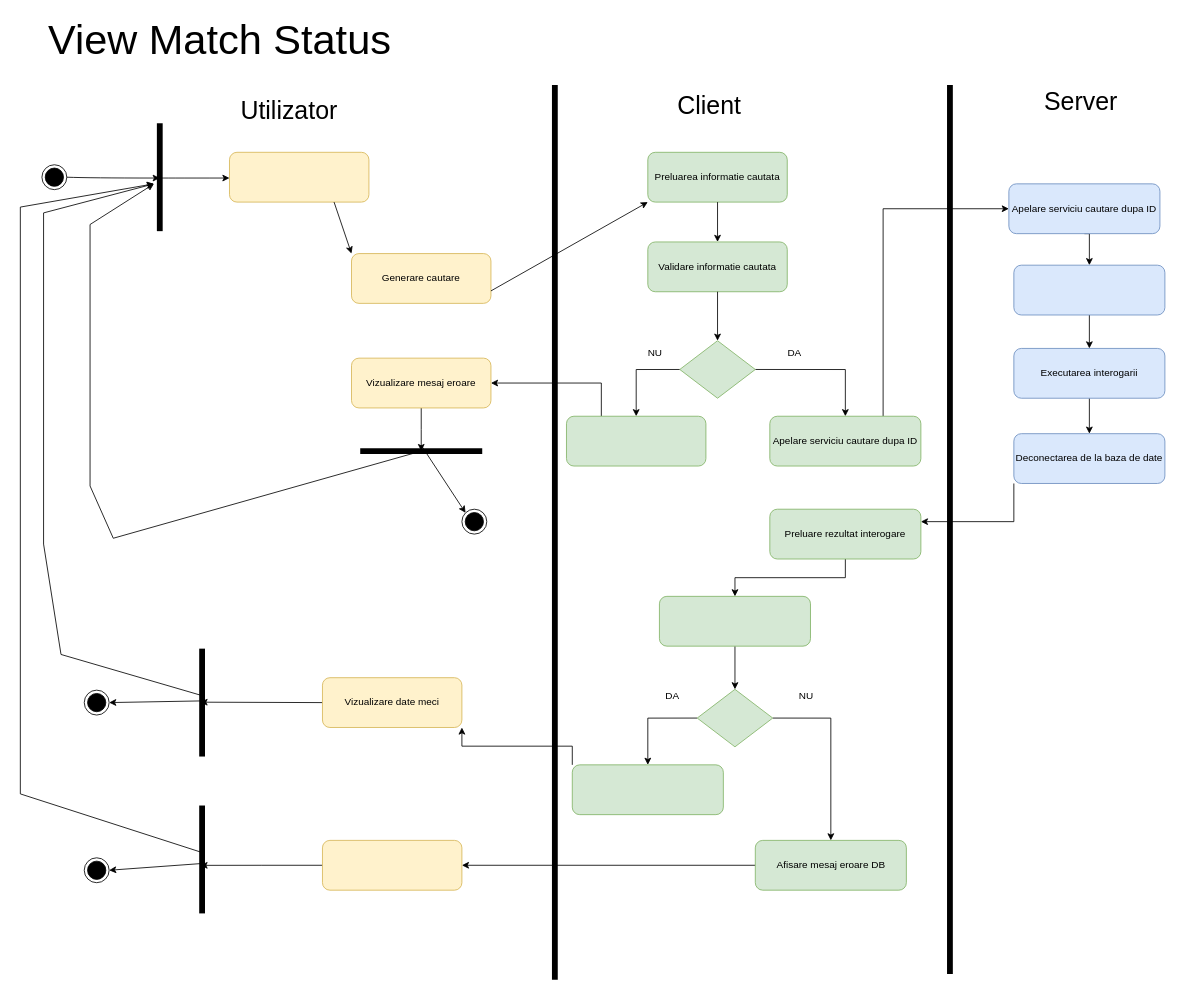
Some shapes in this 1179 by 998 pixel diagram are drawn without their labels. The box of each missing label's shape, as (x1, y1, x2, y2) in pixels:
Afisare mesaj eroare: (566, 415, 706, 466)
Analiza rezultat: (659, 596, 810, 646)
Conectare la baza de date: (1013, 264, 1165, 315)
Introducere informatie cautata: (229, 151, 369, 202)
Salvare date meci: (571, 764, 723, 815)
Vizualizare eroare DB: (322, 840, 462, 890)
